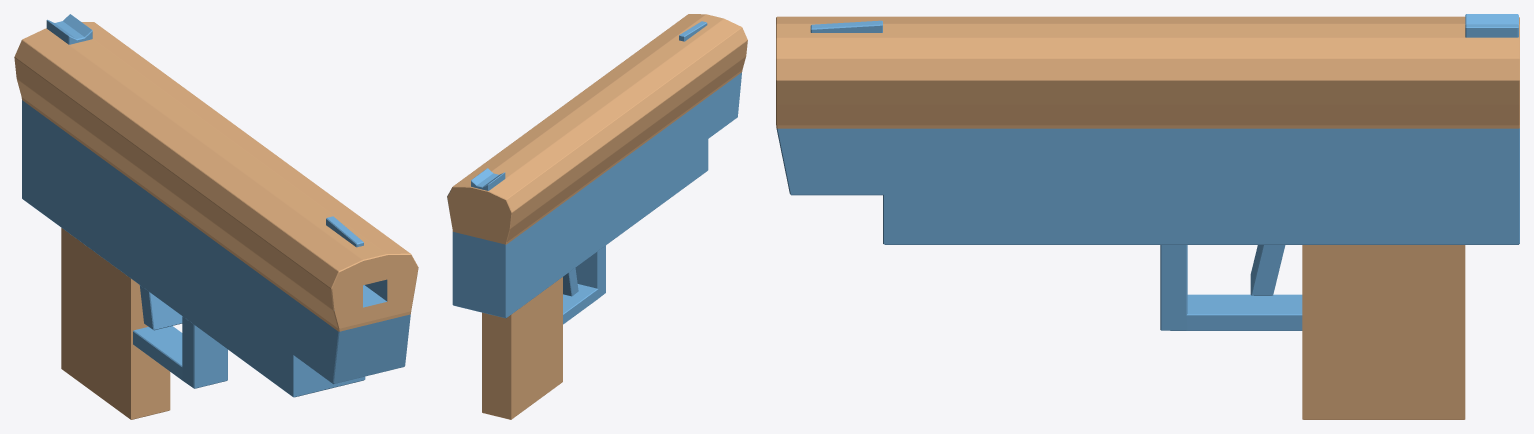
Rendered from Pistol.fbx.
3 renders of one model, left to right at view 1: azimuth 30°, elevation 25°; view 2: azimuth 150°, elevation 25°; view 3: azimuth 270°, elevation 25°, orthographic. The views are drawn at different scales.
Parts seen in each view (by area): view 1: Cube; view 2: Cube; view 3: Cube.
Boxes of the visible parts, box(x1,y1,x2,y2) form: Cube: box(14, 14, 418, 419); Cube: box(447, 14, 747, 419); Cube: box(776, 14, 1519, 419).
Bounding box in the file's own units: 115 × 415 × 720.
